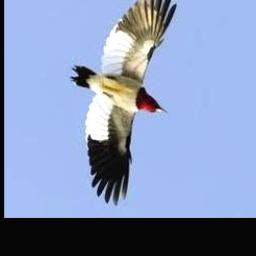Woodpecker: (70, 0, 176, 207)
